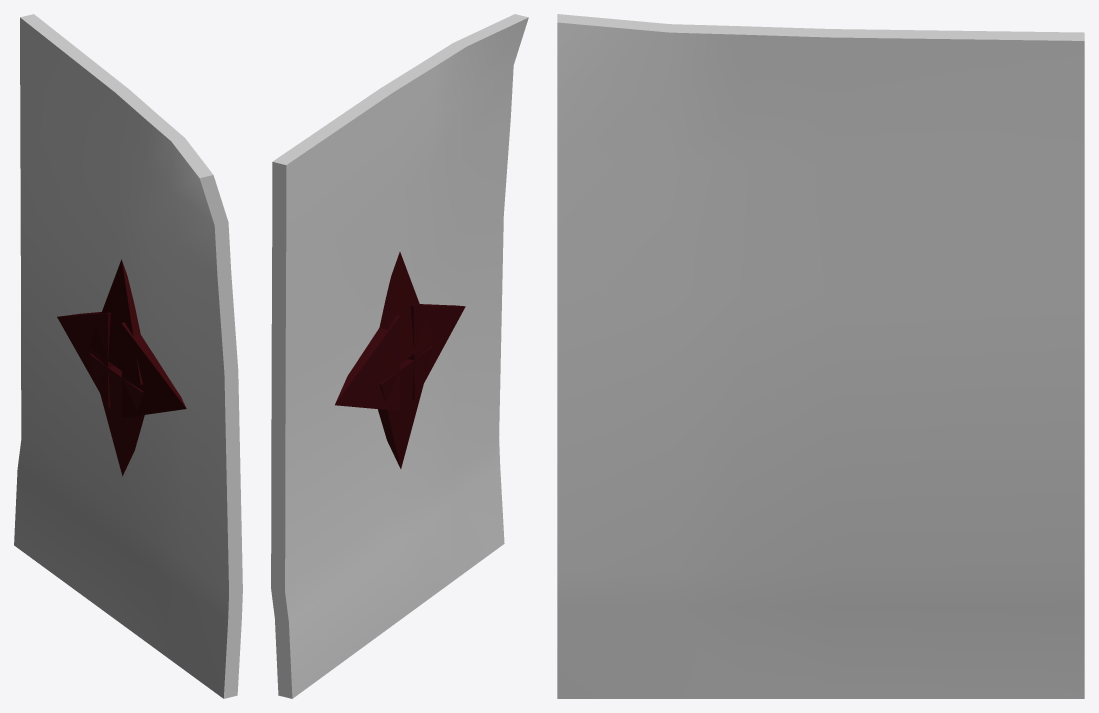
Rendered from pecado4.fbx.
The picture shows the model from 3 angles, left to right: view 1: azimuth 30°, elevation 25°; view 2: azimuth 150°, elevation 25°; view 3: azimuth 270°, elevation 25°; orthographic projection. The views are drawn at different scales.
Visible parts, largest first — view 1: Box001, Pyramid004, Pyramid002, Pyramid003, Pyramid005; view 2: Box001, Pyramid005, Pyramid002, Pyramid003, Pyramid004; view 3: Box001.
Part boxes in pixels (left/top/right/bottom): Box001: left=14, top=14, right=242, bottom=698; Pyramid004: left=121, top=322, right=186, bottom=417; Pyramid002: left=89, top=259, right=142, bottom=384; Pyramid003: left=89, top=353, right=144, bottom=476; Pyramid005: left=57, top=312, right=114, bottom=407; Box001: left=271, top=14, right=528, bottom=698; Pyramid005: left=335, top=315, right=400, bottom=410; Pyramid002: left=378, top=252, right=432, bottom=378; Pyramid003: left=378, top=345, right=433, bottom=468; Pyramid004: left=407, top=304, right=465, bottom=400; Box001: left=557, top=14, right=1084, bottom=698.
Bounding box in the file's own units: 1.71 × 18.99 × 13.72.
